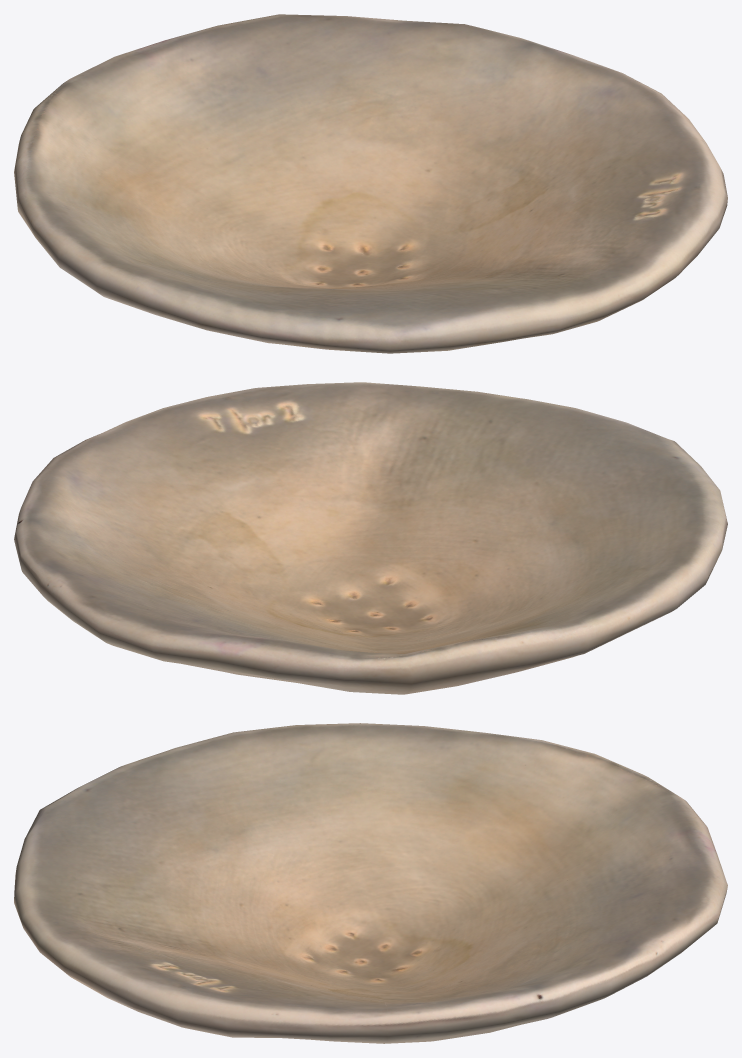
3 views of the same model, one above another, from view 1: azimuth 30°, elevation 25°; view 2: azimuth 150°, elevation 25°; view 3: azimuth 270°, elevation 25° (orthographic). The views are drawn at different scales.
Parts seen in each view (by area): view 1: 202; view 2: 202; view 3: 202.
Boxes of the visible parts, x1,y1,x2,y2 form: 202: [14, 14, 727, 353]; 202: [14, 382, 727, 694]; 202: [14, 723, 727, 1043].
Size of the model in its own units: 118 by 121 by 25.17.
Materials: 1 (1 with a texture image).
